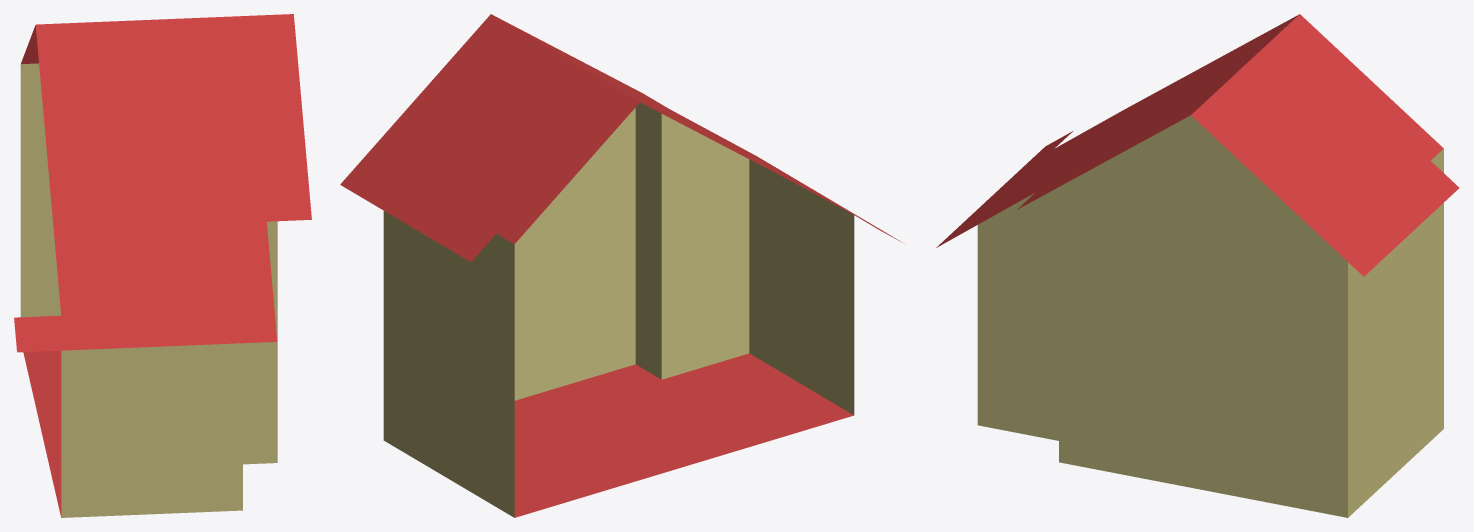
The picture shows the model from 3 angles, left to right: view 1: azimuth 30°, elevation 25°; view 2: azimuth 150°, elevation 25°; view 3: azimuth 270°, elevation 25°; orthographic projection. The views are drawn at different scales.
Size of the model in its own units: 15.24 by 16.4 by 13.37.
